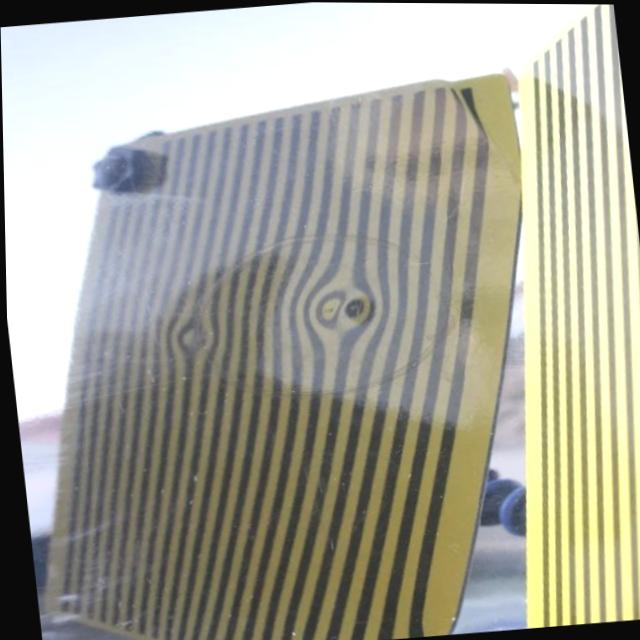PDR-Dent: (286, 258, 406, 363), (140, 284, 236, 380)
